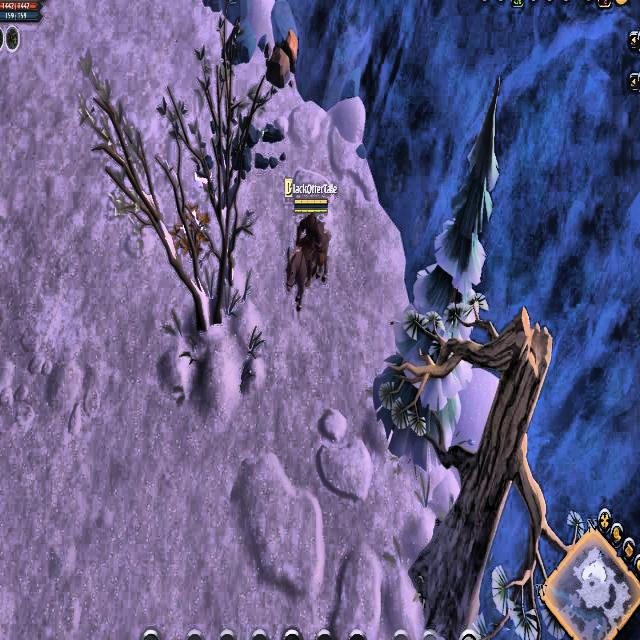limestone: (261, 28, 299, 87)
